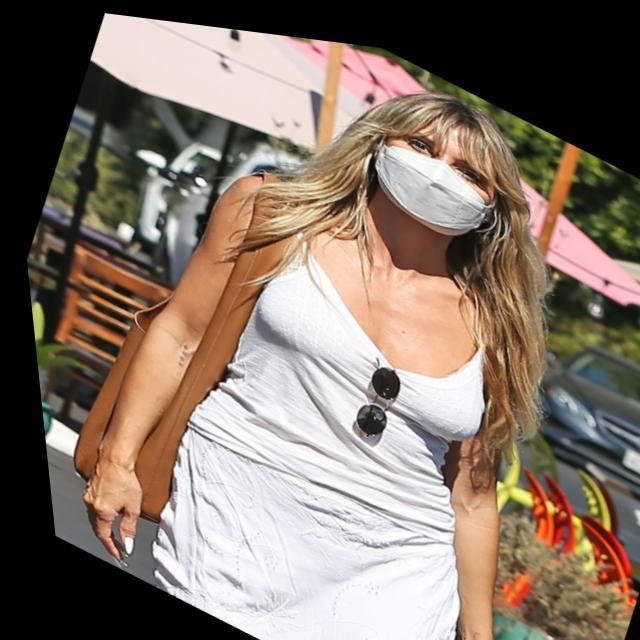Nonhelmet: (352, 83, 516, 252)
